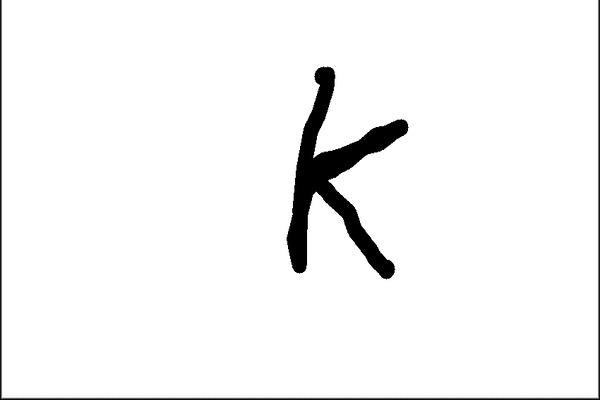K: (279, 62, 414, 287)
